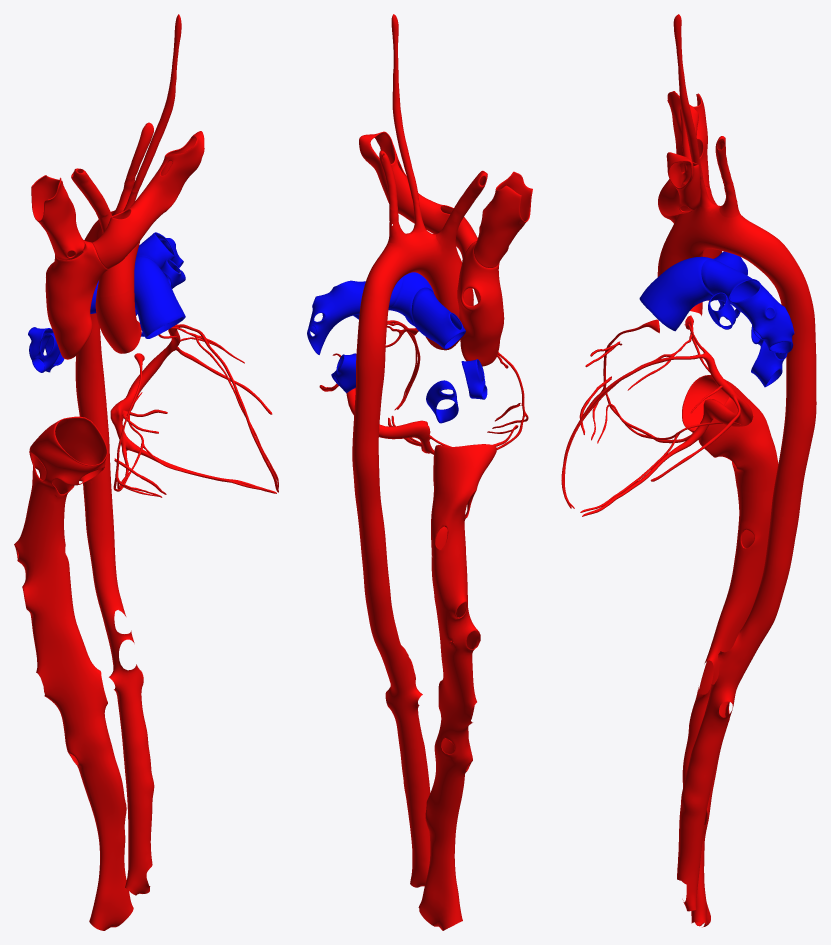
The model's file is VH_M_Heart_Landmarks.glb.
The picture shows the model from 3 angles, left to right: view 1: azimuth 30°, elevation 25°; view 2: azimuth 150°, elevation 25°; view 3: azimuth 270°, elevation 25°; orthographic projection. The views are drawn at different scales.
Parts seen in each view (by area): view 1: VH_M_heart_landmark_veins, VH_M_heart_landmark_arteries; view 2: VH_M_heart_landmark_veins, VH_M_heart_landmark_arteries; view 3: VH_M_heart_landmark_arteries, VH_M_heart_landmark_veins.
Part boxes in pixels (bbox=[...]): VH_M_heart_landmark_veins: bbox=[14, 131, 278, 930]; VH_M_heart_landmark_arteries: bbox=[71, 14, 278, 895]; VH_M_heart_landmark_veins: bbox=[319, 131, 532, 930]; VH_M_heart_landmark_arteries: bbox=[307, 14, 528, 887]; VH_M_heart_landmark_arteries: bbox=[561, 14, 816, 911]; VH_M_heart_landmark_veins: bbox=[563, 91, 787, 927].
Bounding box in the file's own units: 0.1302 × 0.5142 × 0.1258.
